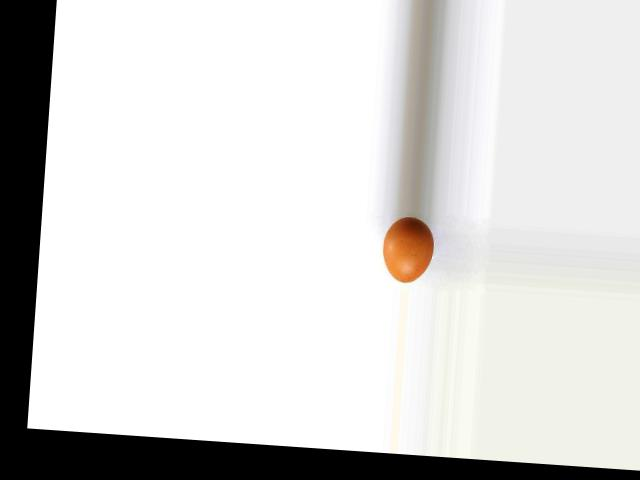egg: (381, 215, 436, 284)
